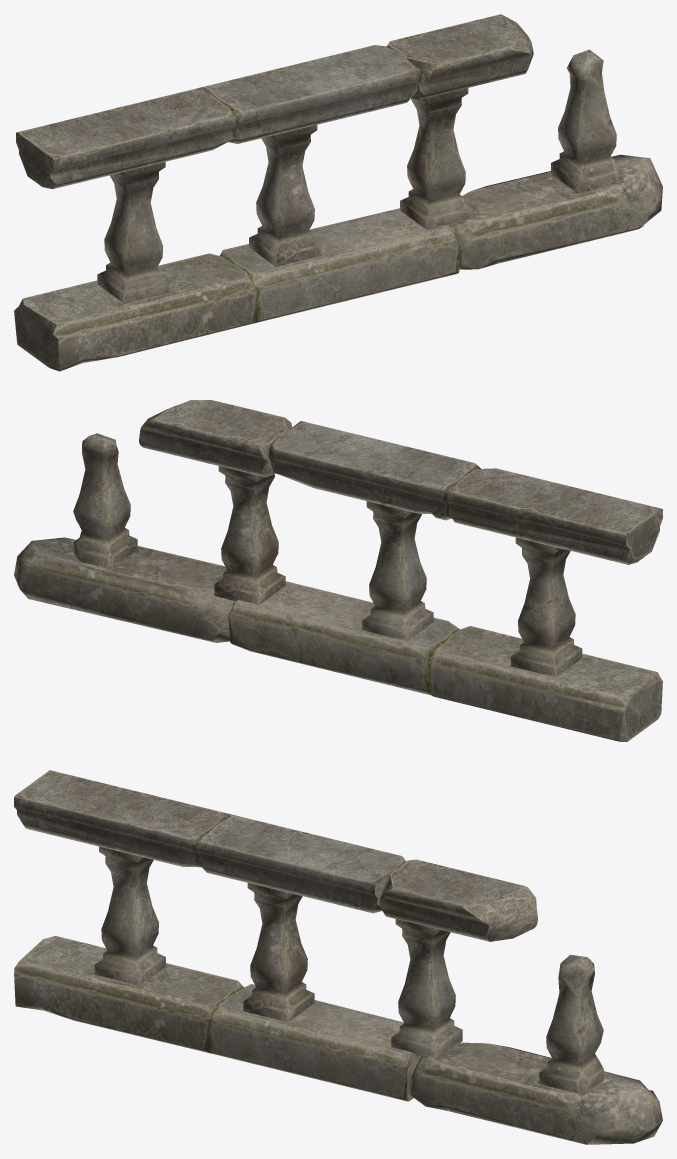
Rendered from SM_Ballustrade_Ruined_04.fbx.
3 views of the same model, one above another, from view 1: azimuth 30°, elevation 25°; view 2: azimuth 150°, elevation 25°; view 3: azimuth 330°, elevation 25° (orthographic).
Visible parts, largest first — view 1: SM_Ballustrade_Ruined_04_LOD0; view 2: SM_Ballustrade_Ruined_04_LOD0; view 3: SM_Ballustrade_Ruined_04_LOD0.
Part boxes in pixels (<box>): SM_Ballustrade_Ruined_04_LOD0: <box>14,14,662,371</box>; SM_Ballustrade_Ruined_04_LOD0: <box>14,400,662,741</box>; SM_Ballustrade_Ruined_04_LOD0: <box>14,770,662,1144</box>.
Size of what is drawn, in the model's own units: 314 by 101 by 37.19.
